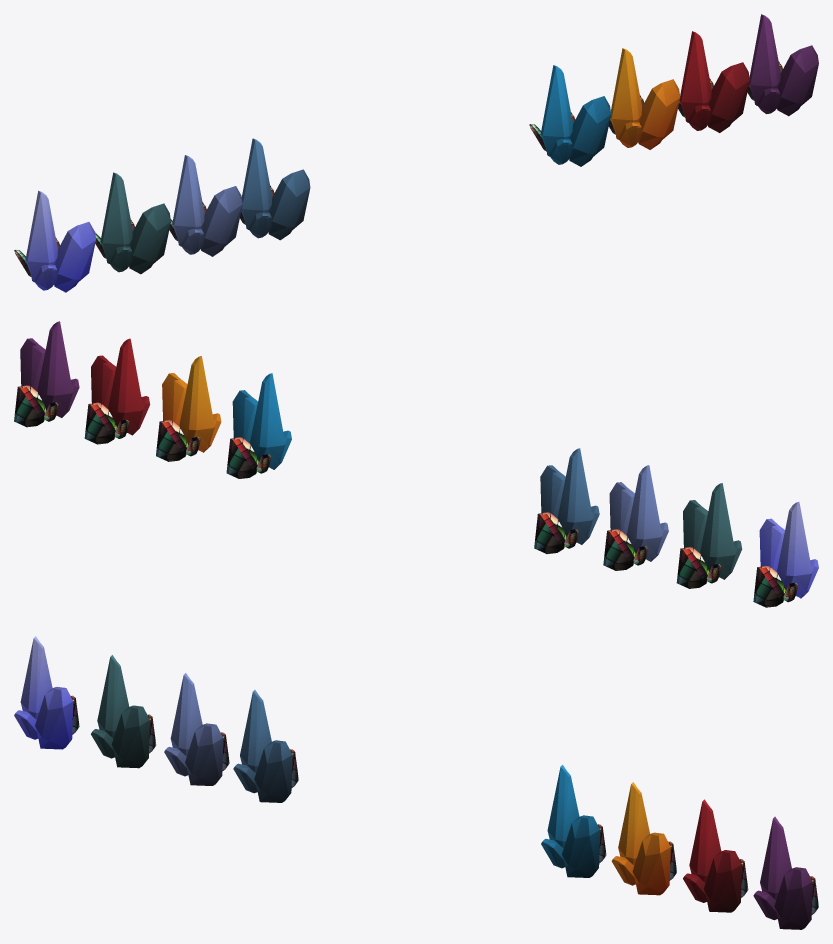
File: Crystal_2.fbx
The picture shows the model from 3 angles, top to bottom: view 1: azimuth 30°, elevation 25°; view 2: azimuth 150°, elevation 25°; view 3: azimuth 330°, elevation 25°; orthographic projection. The views are drawn at different scales.
Parts seen in each view (by area): view 1: Crystal_2, Crystal_2.007, Crystal_2.006, Crystal_2.005, Crystal_2.002, Crystal_2.001, Crystal_2.003, Crystal_2.004; view 2: Crystal_2.003, Crystal_2.002, Crystal_2.004, Crystal_2.007, Crystal_2.001, Crystal_2.005, Crystal_2, Crystal_2.006; view 3: Crystal_2.003, Crystal_2.004, Crystal_2, Crystal_2.007, Crystal_2.001, Crystal_2.006, Crystal_2.005, Crystal_2.002.
Boxes of the visible parts, bbox=[...] form: Crystal_2: bbox=[529, 65, 611, 166]; Crystal_2.007: bbox=[14, 190, 95, 292]; Crystal_2.006: bbox=[95, 172, 170, 274]; Crystal_2.005: bbox=[169, 155, 242, 256]; Crystal_2.002: bbox=[678, 31, 749, 132]; Crystal_2.001: bbox=[608, 48, 680, 149]; Crystal_2.003: bbox=[747, 14, 818, 116]; Crystal_2.004: bbox=[240, 138, 310, 240]; Crystal_2.003: bbox=[14, 321, 79, 427]; Crystal_2.002: bbox=[84, 338, 150, 444]; Crystal_2.004: bbox=[534, 448, 599, 553]; Crystal_2.007: bbox=[753, 502, 818, 607]; Crystal_2.001: bbox=[156, 356, 221, 461]; Crystal_2.005: bbox=[603, 465, 668, 570]; Crystal_2: bbox=[226, 373, 291, 478]; Crystal_2.006: bbox=[676, 483, 742, 588]; Crystal_2.003: bbox=[753, 816, 818, 929]; Crystal_2.004: bbox=[233, 690, 298, 802]; Crystal_2: bbox=[541, 765, 606, 877]; Crystal_2.007: bbox=[14, 636, 79, 749]; Crystal_2.001: bbox=[611, 782, 676, 895]; Crystal_2.006: bbox=[91, 655, 156, 768]; Crystal_2.005: bbox=[164, 673, 229, 785]; Crystal_2.002: bbox=[683, 799, 748, 912].
Bounding box in the file's own units: 1283 × 155 × 90.28.
Materials: 1 (1 with a texture image).
